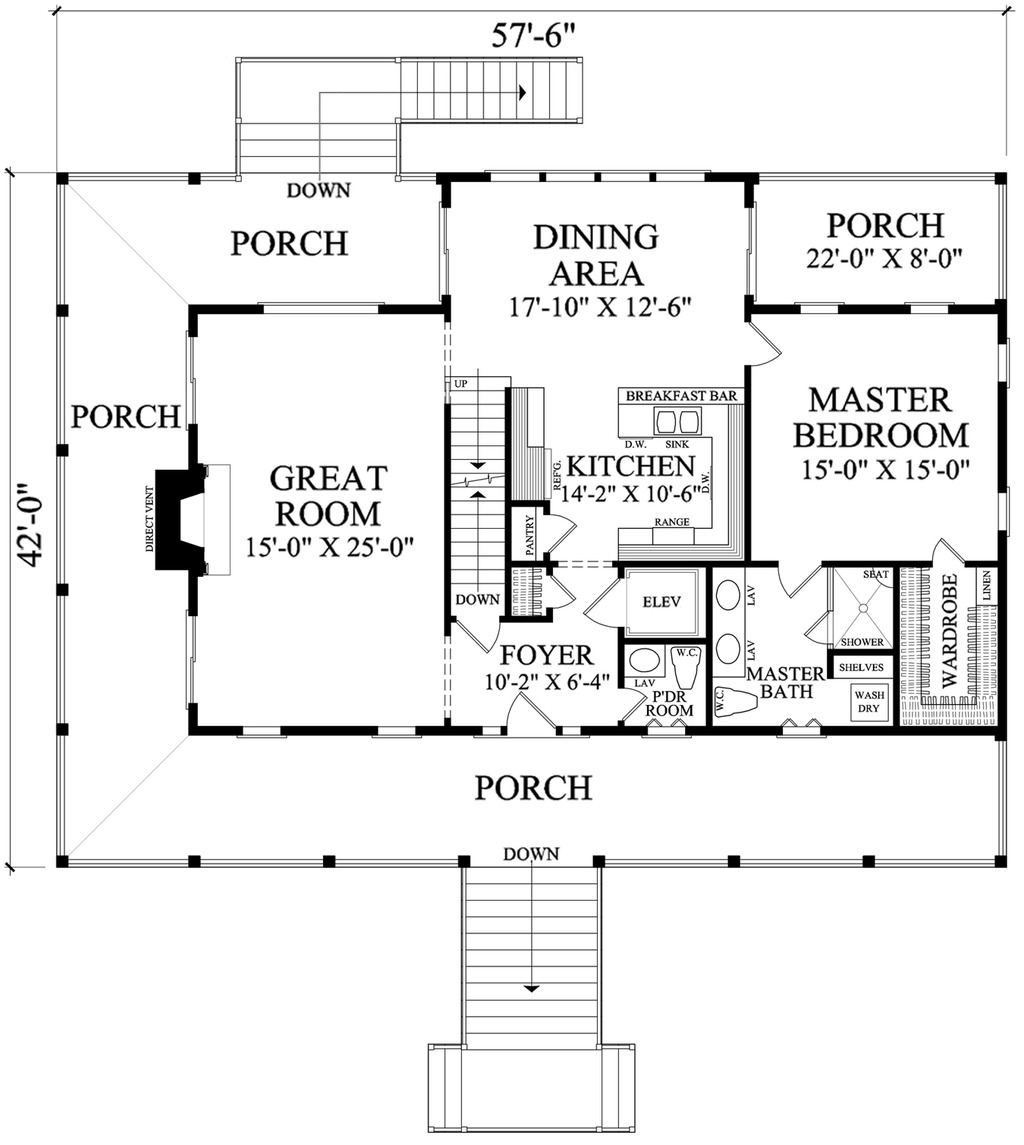door: (503, 686, 563, 742), (582, 575, 628, 629), (768, 556, 822, 598), (454, 610, 501, 658), (746, 323, 783, 375), (541, 509, 576, 554), (545, 568, 579, 612), (924, 538, 968, 568), (806, 602, 831, 645)
large_sink: (710, 682, 762, 720), (668, 646, 702, 692)
small_sink: (708, 567, 750, 684), (623, 644, 671, 684)
stairs: (424, 843, 640, 1136), (232, 51, 591, 179), (439, 365, 509, 622)
twin_sink: (649, 406, 710, 439)
window: (260, 298, 386, 324), (180, 319, 202, 427), (432, 196, 453, 296), (897, 299, 958, 322), (231, 722, 289, 746), (772, 715, 830, 737), (639, 717, 688, 741), (792, 300, 844, 320), (366, 720, 419, 737)
